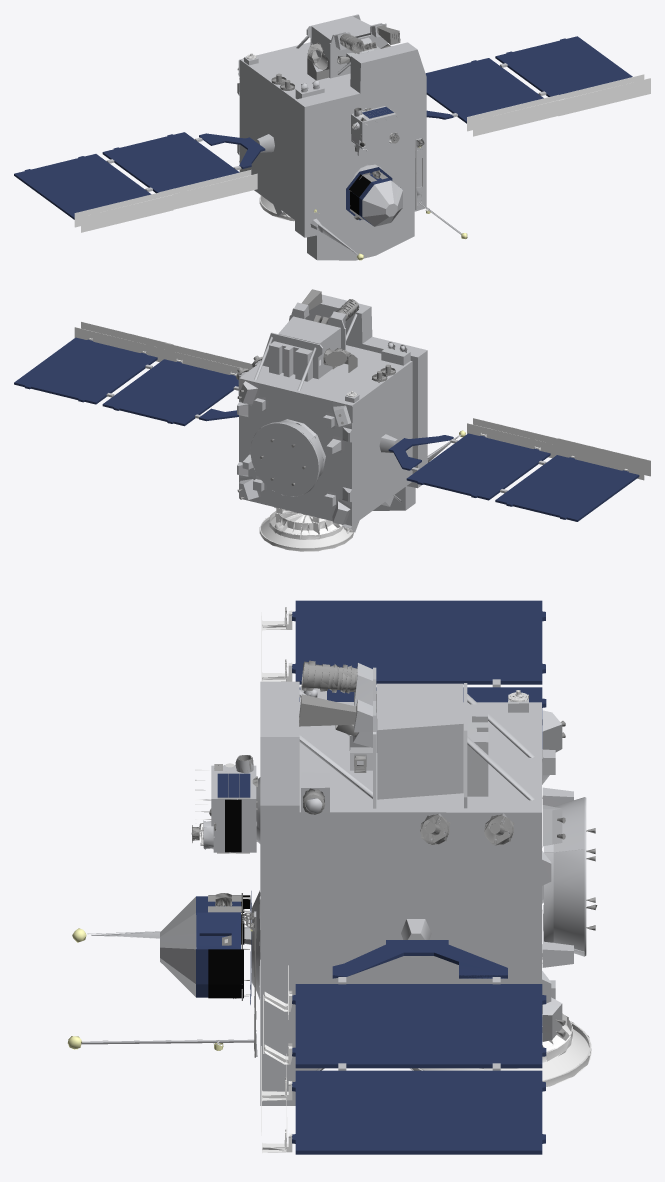
File: comet_interceptor-low.glb
The picture shows the model from 3 angles, top to bottom: view 1: azimuth 30°, elevation 25°; view 2: azimuth 150°, elevation 25°; view 3: azimuth 270°, elevation 25°; orthographic projection. The views are drawn at different scales.
Visible parts, largest first — view 1: Comet_Interceptor_Low_2, Comet_Interceptor_Low_10, Comet_Interceptor_Low_7; view 2: Comet_Interceptor_Low_2, Comet_Interceptor_Low_10, Comet_Interceptor_Low_7; view 3: Comet_Interceptor_Low_2, Comet_Interceptor_Low_10, Comet_Interceptor_Low_7.
Boxes of the visible parts, x1,y1,x2,y2 form: Comet_Interceptor_Low_2: [106, 14, 546, 260]; Comet_Interceptor_Low_10: [14, 36, 650, 232]; Comet_Interceptor_Low_7: [237, 25, 467, 260]; Comet_Interceptor_Low_2: [106, 294, 546, 532]; Comet_Interceptor_Low_10: [14, 322, 650, 551]; Comet_Interceptor_Low_7: [236, 289, 465, 499]; Comet_Interceptor_Low_2: [81, 663, 586, 1105]; Comet_Interceptor_Low_10: [195, 600, 591, 1154]; Comet_Interceptor_Low_7: [67, 660, 597, 1057].
Bounding box in the file's own units: 7.66 × 2.75 × 3.08.
